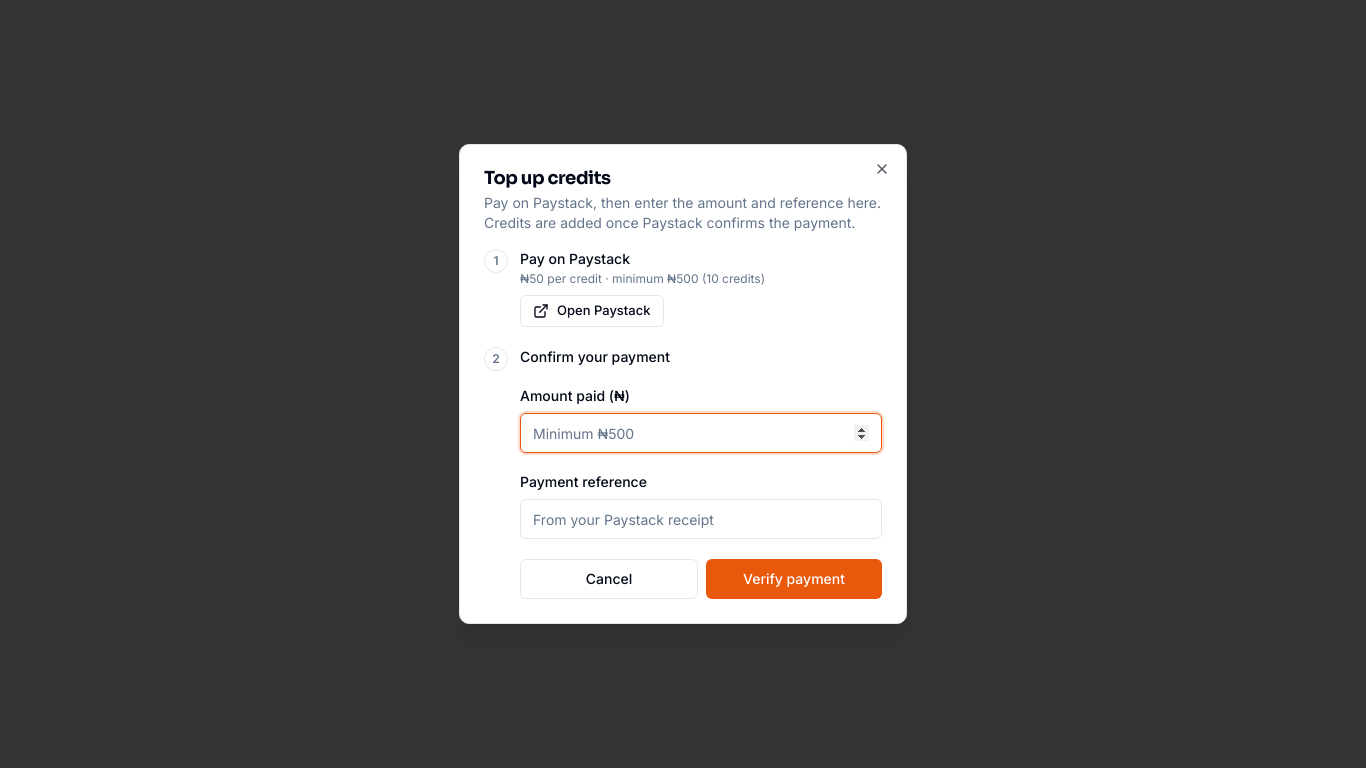
Test: TopUpCreditsModal › falls back to a generic error message when the thrown error has no message
The width and height of the screenshot is (1366, 768).
In the number field labelled "Amount paid (₦)": (701, 433) [520,413,882,453], type "1000"
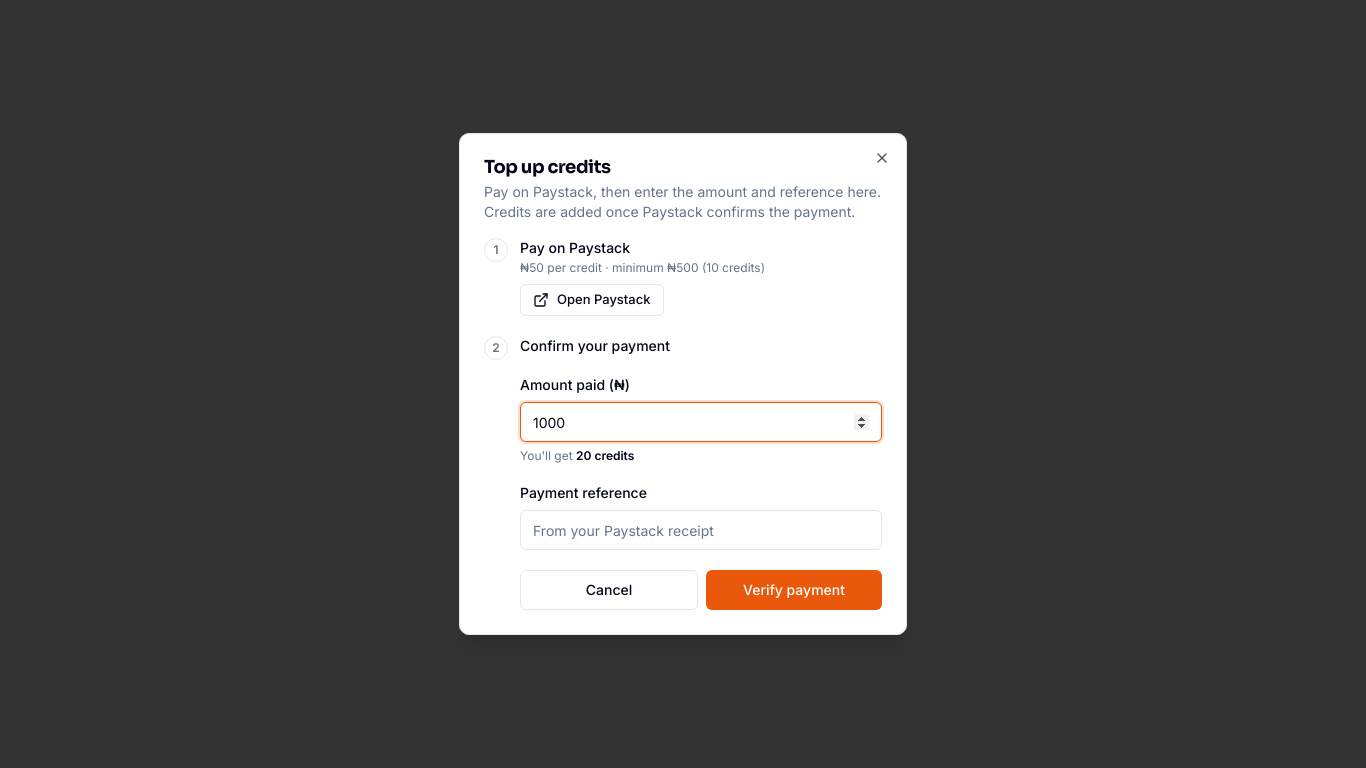
In the field labelled "Payment reference": (701, 530) [520,510,882,550], type "ref-abc"
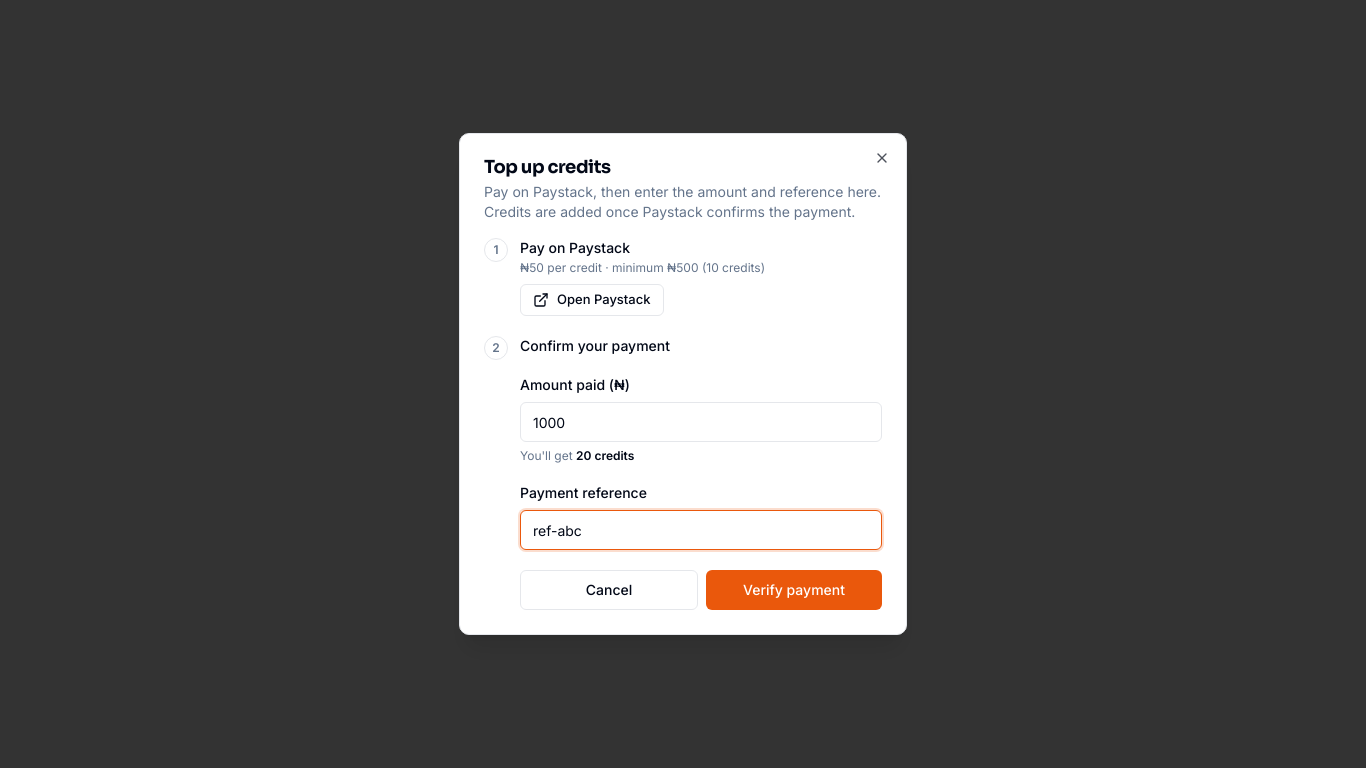
Click the button "Verify payment": (794, 590) [706,570,882,610]
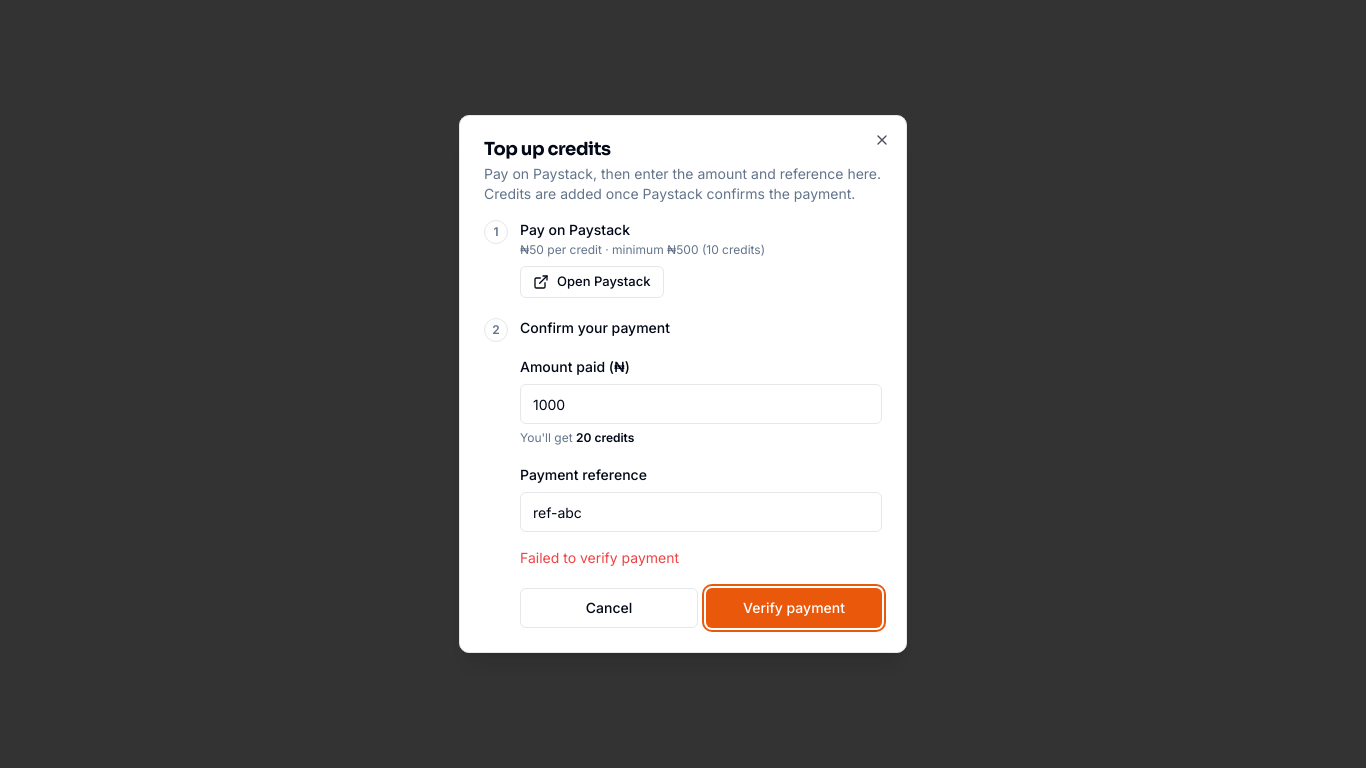
Expected: the text "Failed to verify payment" is shown, [520,549,679,566]
